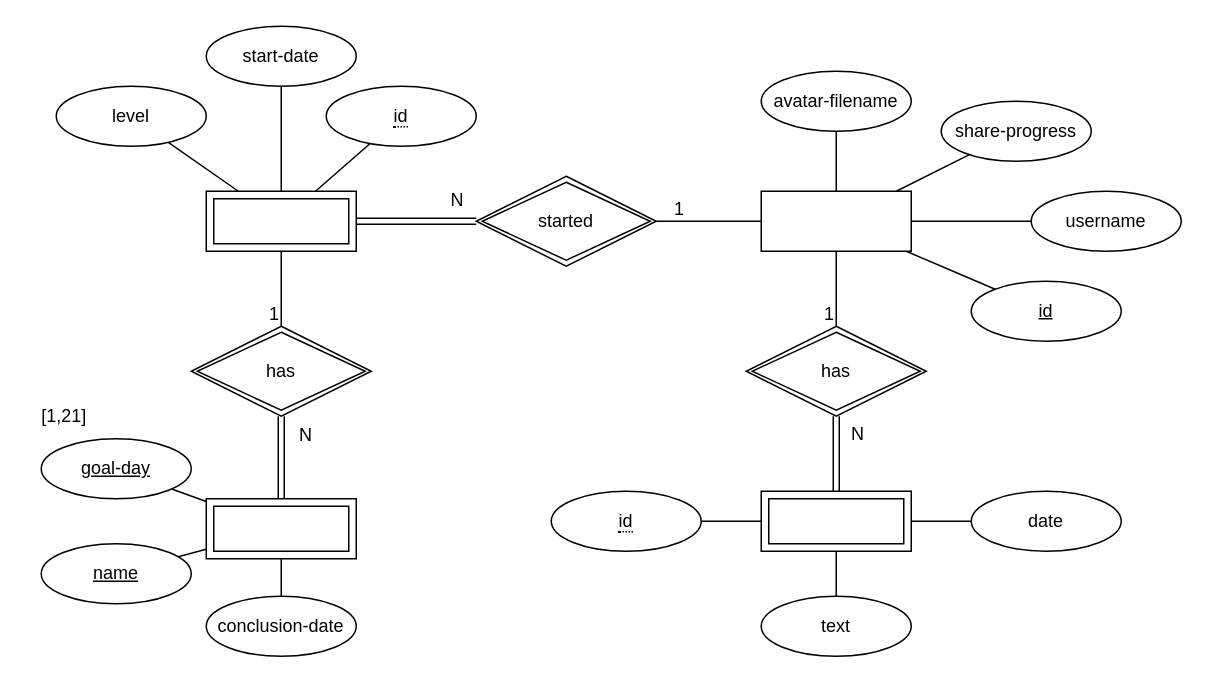
Image size: 1208x683. Some labels were removed from this diagram. The centre of each missing label's shape, as x and y in pixels:
BATCH: [280,220]
GOAL: [280,528]
NOTE: [835,520]
USER: [835,220]
